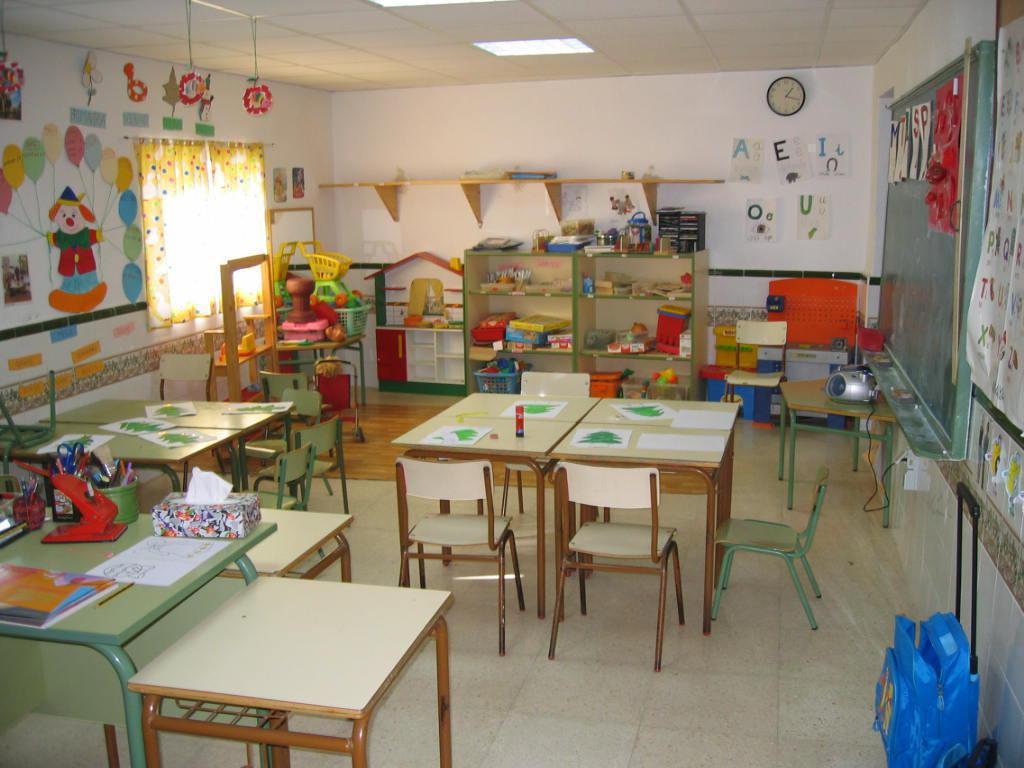Otro Obstaculo: (867, 493, 987, 756)
